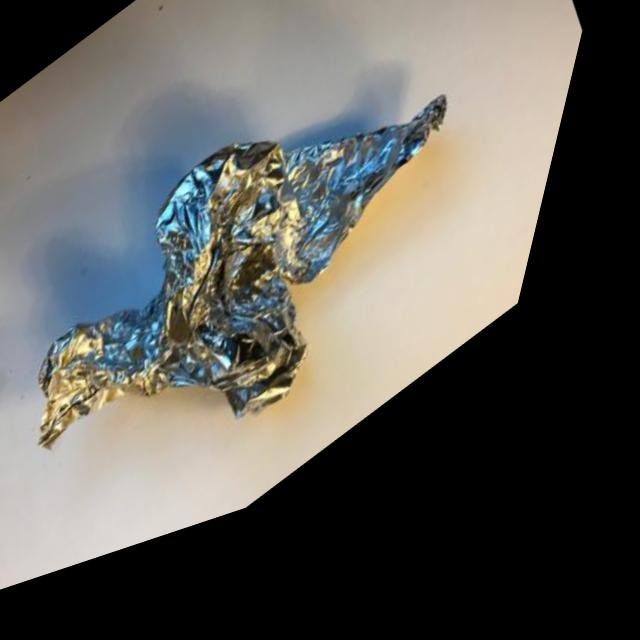metal: (0, 0, 605, 626)
